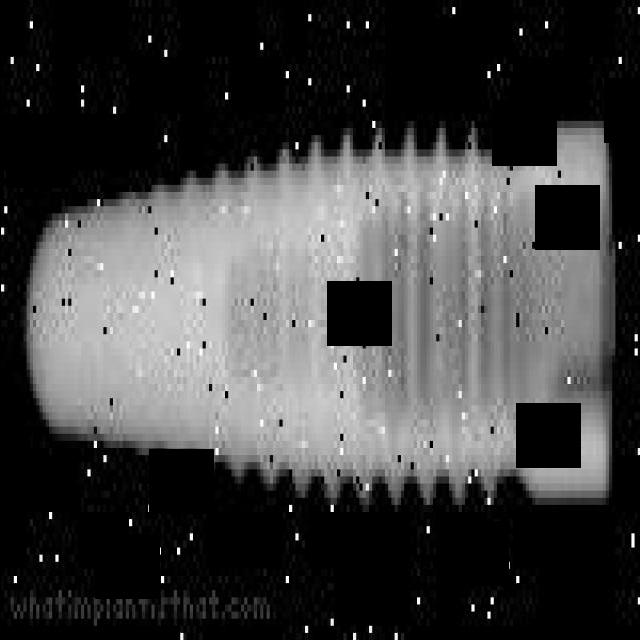Root canal obturation: (22, 121, 611, 512)
